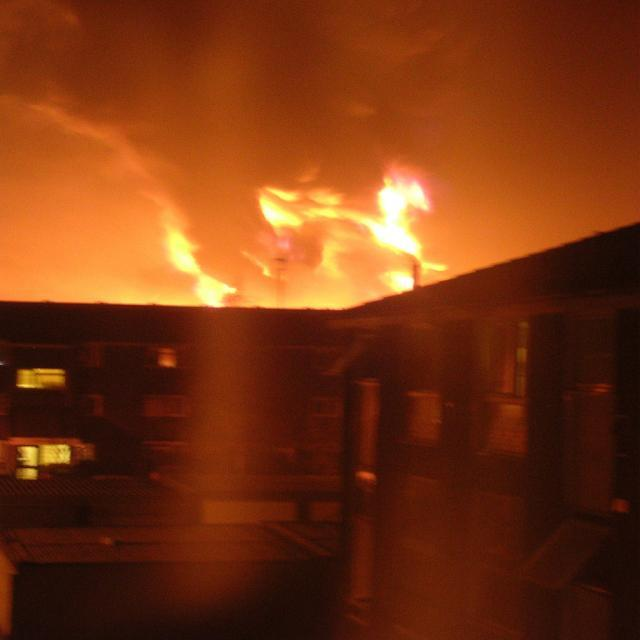Fire: (271, 172, 425, 286)
